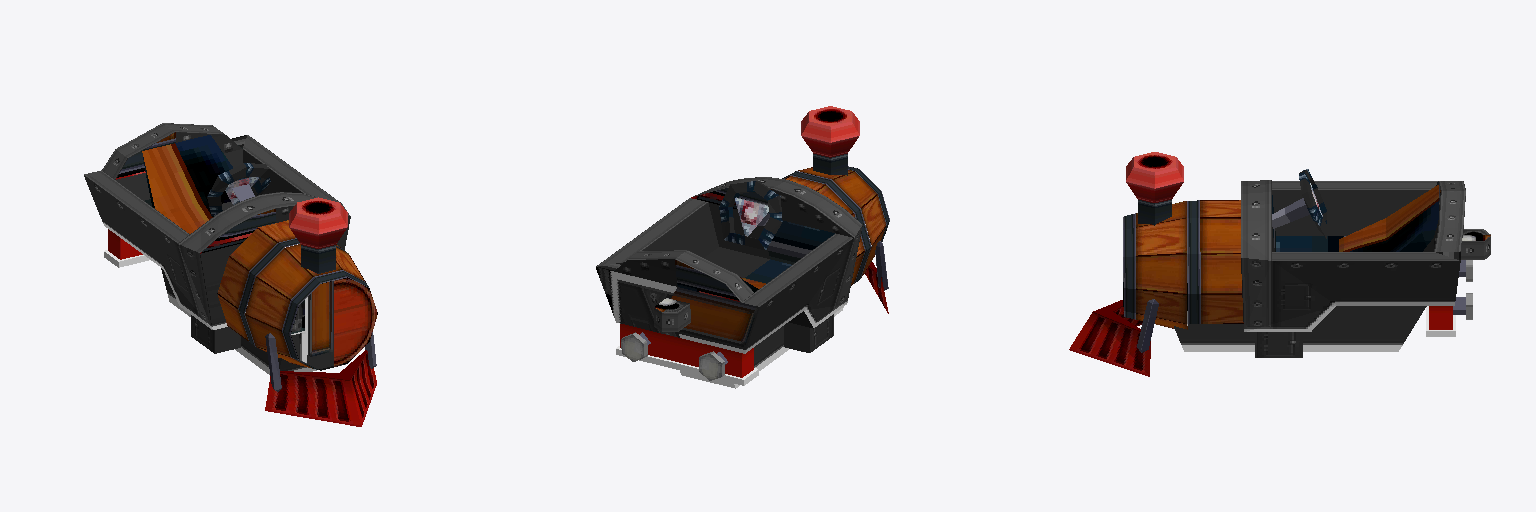
3 views of the same model, side by side, from view 1: azimuth 30°, elevation 25°; view 2: azimuth 150°, elevation 25°; view 3: azimuth 270°, elevation 25° (orthographic).
Parts seen in each view (by area): view 1: vsn_mesh_0__mesh_0_, vsn_mesh_1__mesh_1_; view 2: vsn_mesh_0__mesh_0_, vsn_mesh_1__mesh_1_; view 3: vsn_mesh_0__mesh_0_, vsn_mesh_1__mesh_1_.
Boxes of the visible parts, box(x1,y1,x2,y2) form: vsn_mesh_0__mesh_0_: box(84, 123, 377, 426); vsn_mesh_1__mesh_1_: box(207, 163, 270, 215); vsn_mesh_0__mesh_0_: box(596, 106, 889, 388); vsn_mesh_1__mesh_1_: box(719, 181, 782, 249); vsn_mesh_0__mesh_0_: box(1069, 152, 1490, 376); vsn_mesh_1__mesh_1_: box(1272, 169, 1326, 238).
Bounding box in the file's own units: 0.0943 × 0.1031 × 0.2101.
2 materials, 1 textured.